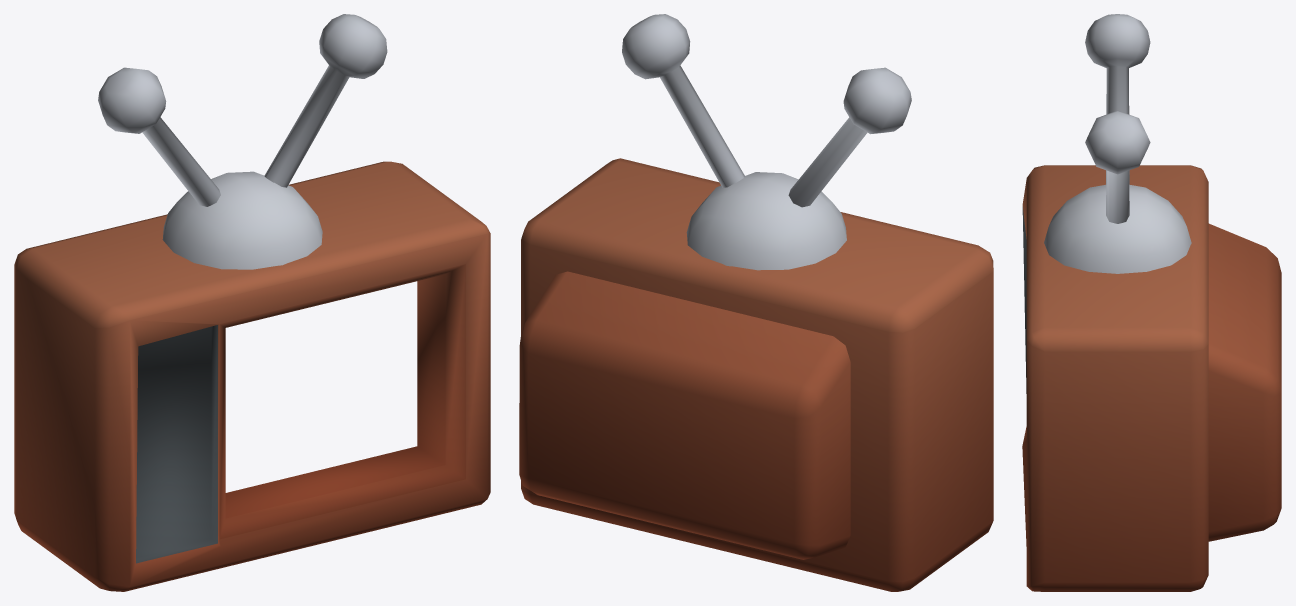
Rendered from TV_edited.glb.
3 renders of one model, left to right at view 1: azimuth 30°, elevation 25°; view 2: azimuth 150°, elevation 25°; view 3: azimuth 270°, elevation 25°, orthographic. The views are drawn at different scales.
Parts seen in each view (by area): view 1: tv_C_brown; view 2: tv_C_brown; view 3: tv_C_brown.
Boxes of the visible parts, bbox=[...] form: tv_C_brown: bbox=[14, 14, 490, 591]; tv_C_brown: bbox=[519, 14, 993, 591]; tv_C_brown: bbox=[1022, 14, 1281, 591].
Bounding box in the file's own units: 1.5 × 1.74 × 0.9257.
1 material, 1 textured.
